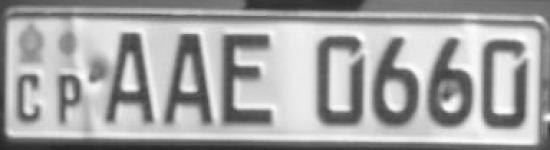0: (476, 30, 532, 134), (312, 31, 368, 130)
6: (366, 29, 422, 131), (422, 29, 476, 134)
A: (100, 23, 158, 128), (160, 28, 219, 131)
C: (14, 66, 44, 126)
E: (217, 28, 276, 130)
P: (55, 69, 85, 129)
